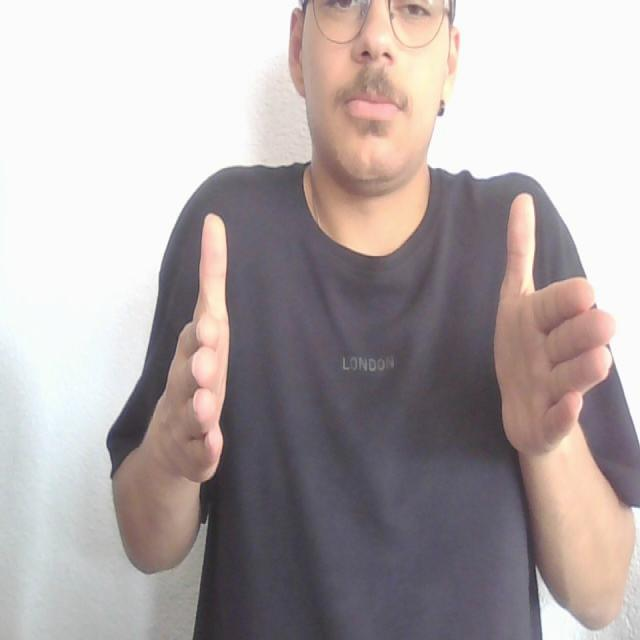Nasil: (149, 187, 618, 492)
